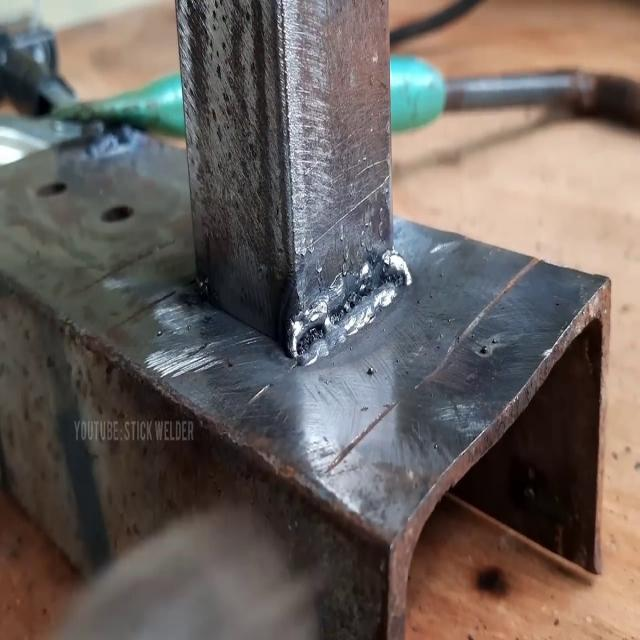Bad Welding: (286, 247, 412, 366)
Porosity: (295, 320, 327, 356), (330, 290, 362, 322)
